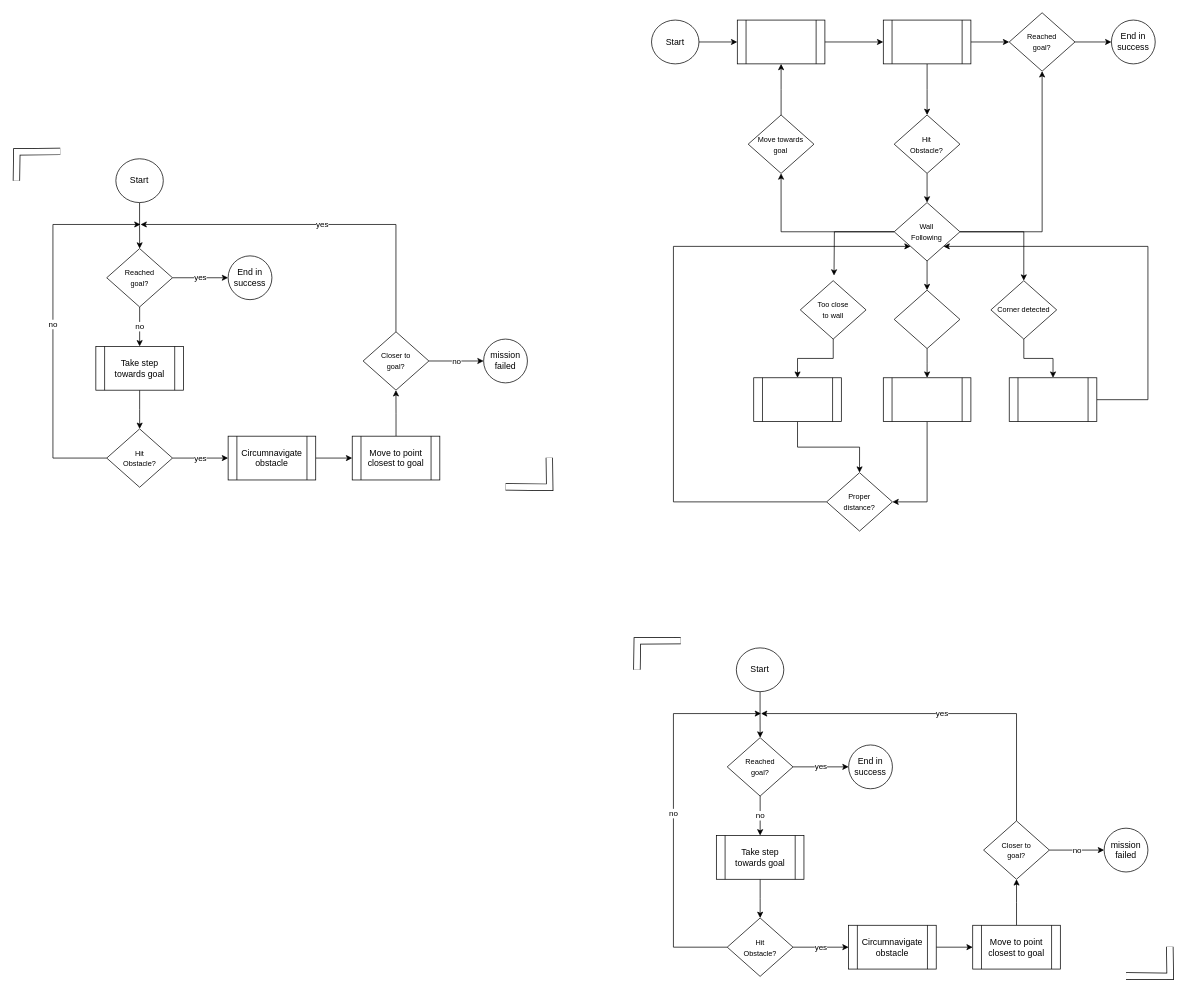
The diagram is 1187 pixels wide and 994 high, and some of its shapes have lost their labels. Here are the shapes that lost their labels. From the top down, the box of each, then its label:
(737, 19, 825, 64): Align Bot's head
(883, 19, 971, 64): Move towards the goal
(893, 289, 960, 349): Too far from wall
(753, 377, 841, 422): Go reverse
(883, 377, 971, 422): Move closer
(1008, 377, 1097, 422): Turn
